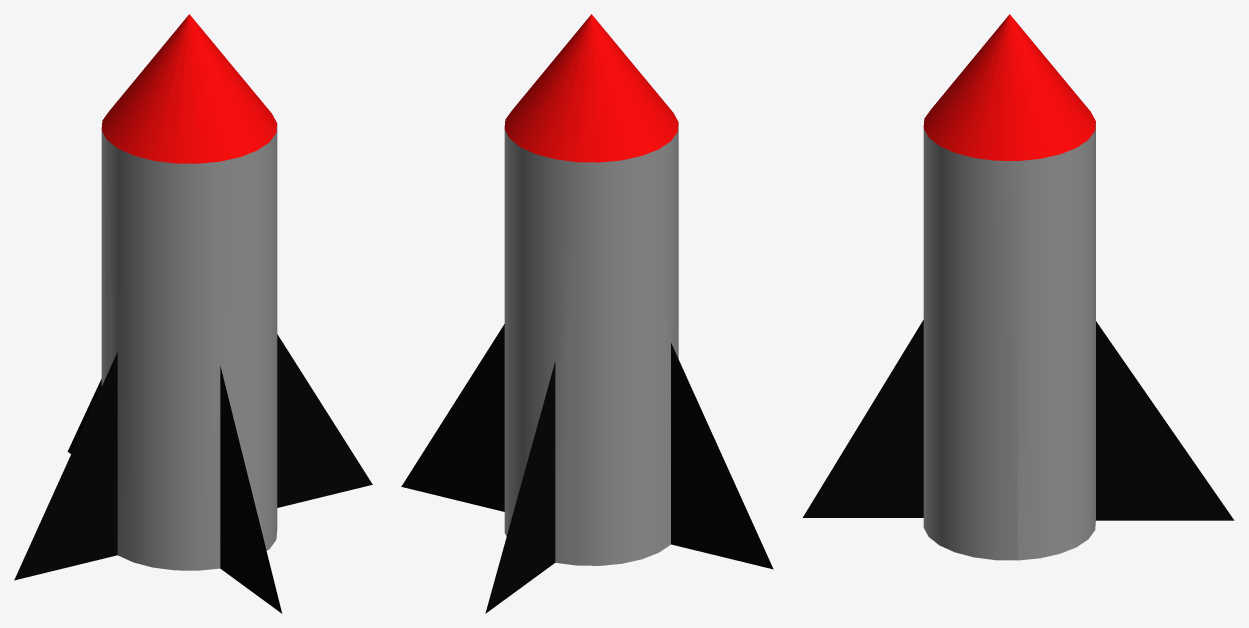
Rendered from rocket.fbx.
3 renders of one model, left to right at view 1: azimuth 30°, elevation 25°; view 2: azimuth 150°, elevation 25°; view 3: azimuth 270°, elevation 25°, orthographic.
Visible parts, largest first — view 1: Layer0_001; view 2: Layer0_001; view 3: Layer0_001.
Boxes of the visible parts, box(x1,y1,x2,y2) form: Layer0_001: box(14, 14, 372, 613); Layer0_001: box(401, 14, 773, 613); Layer0_001: box(802, 14, 1234, 560).
Size of the model in its own units: 904 by 1222 by 938.
